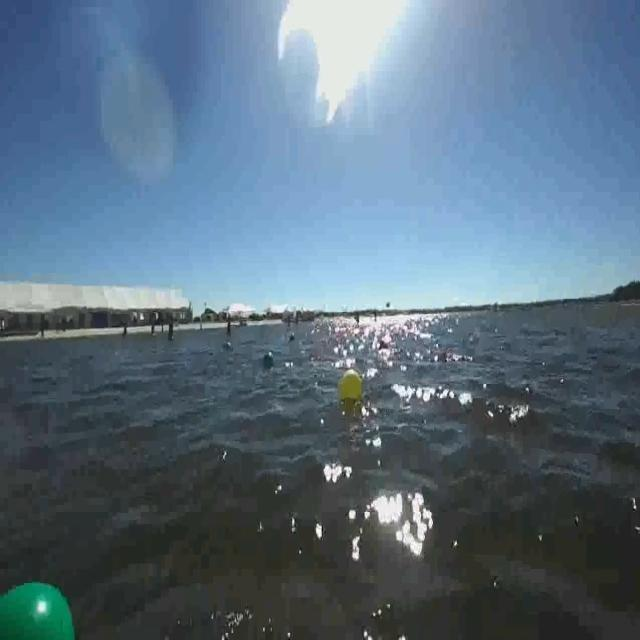green-buoy: (0, 568, 92, 638)
yellow-buoy: (339, 368, 364, 402)
